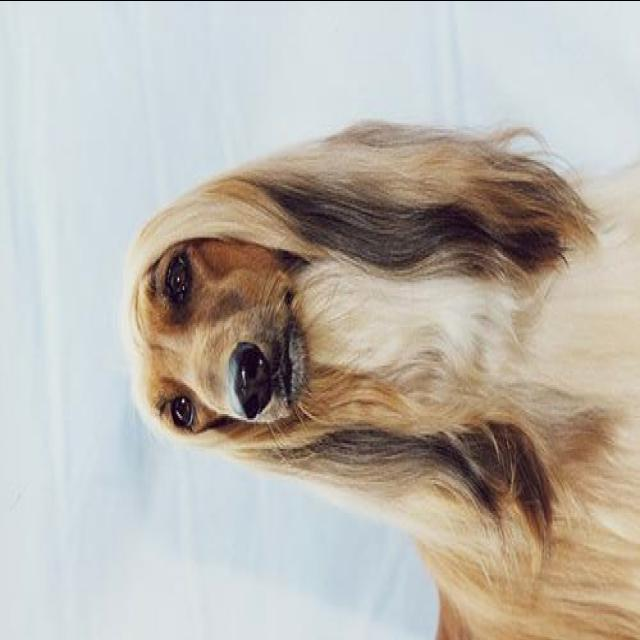afghan_hound: (123, 113, 636, 636)
